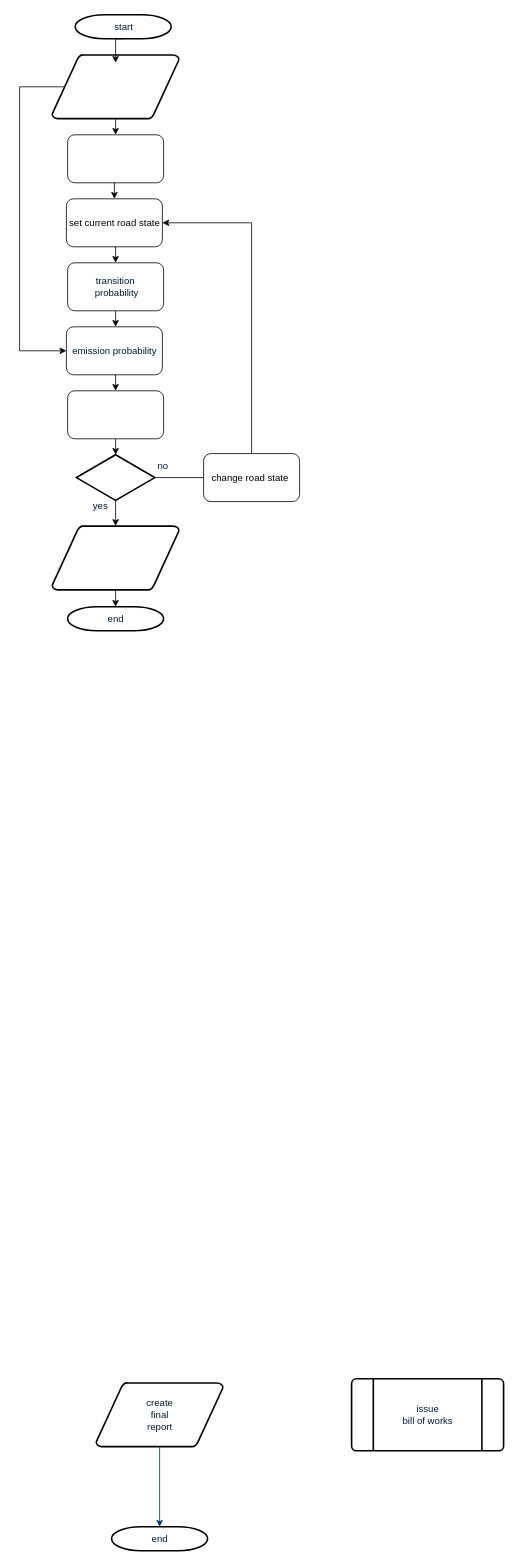
Some shapes in this 518 by 1565 pixel diagram are drawn without their labels. The shapes that lost their labels are listed below. From the top down, each one's centre as x and y in pixels, then its label:
At point (115, 86): "get location data".
At point (115, 158): "check for current road".
At point (115, 414): "viterbi".
At point (115, 477): "same road state?".
At point (115, 557): "show the location on the road".
